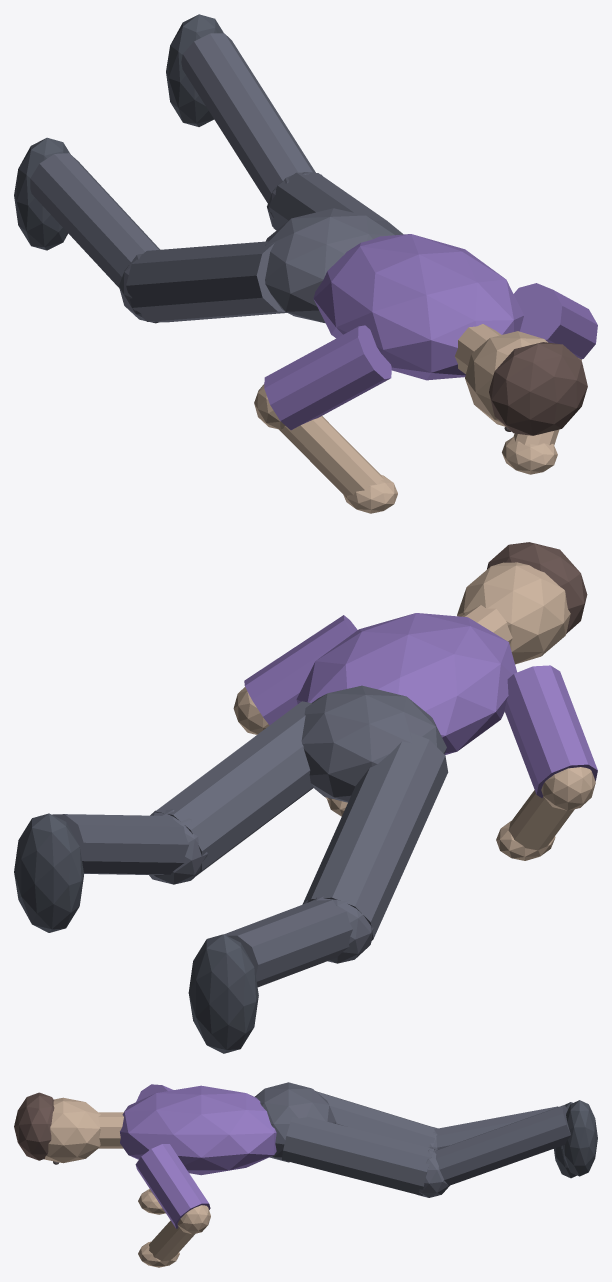
3 views of the same model, one above another, from view 1: azimuth 30°, elevation 25°; view 2: azimuth 150°, elevation 25°; view 3: azimuth 270°, elevation 25° (orthographic). The views are drawn at different scales.
Visible parts, largest first — view 1: world; view 2: world; view 3: world.
Boxes of the visible parts, bbox=[...] form: world: bbox=[14, 14, 597, 513]; world: bbox=[14, 542, 597, 1053]; world: bbox=[14, 1082, 597, 1267].
Size of the model in its own units: 0.93 by 0.6213 by 2.07.
